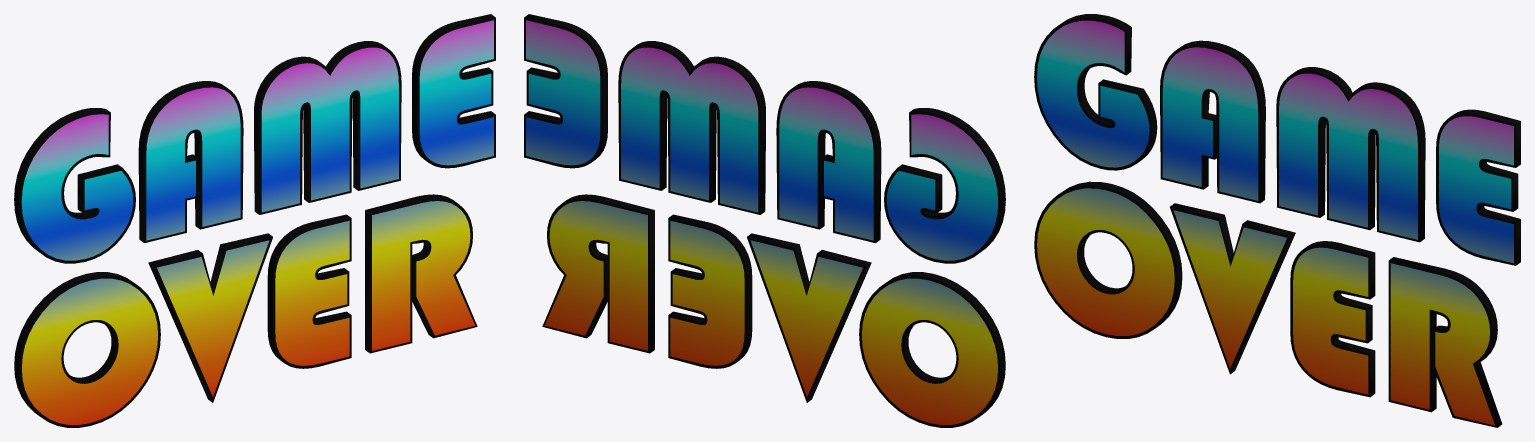
File: Decor_Game_Over.fbx
3 views of the same model, side by side, from view 1: azimuth 30°, elevation 25°; view 2: azimuth 150°, elevation 25°; view 3: azimuth 330°, elevation 25° (orthographic).
Parts seen in each view (by area): view 1: Decor_Game_Over; view 2: Decor_Game_Over; view 3: Decor_Game_Over.
Part boxes in pixels (x1,y1,x2,y2): Decor_Game_Over: [14, 14, 495, 427]; Decor_Game_Over: [524, 14, 1005, 427]; Decor_Game_Over: [1034, 14, 1520, 427].
Size of the model in its own units: 0.6908 by 0.4439 by 0.0126.
